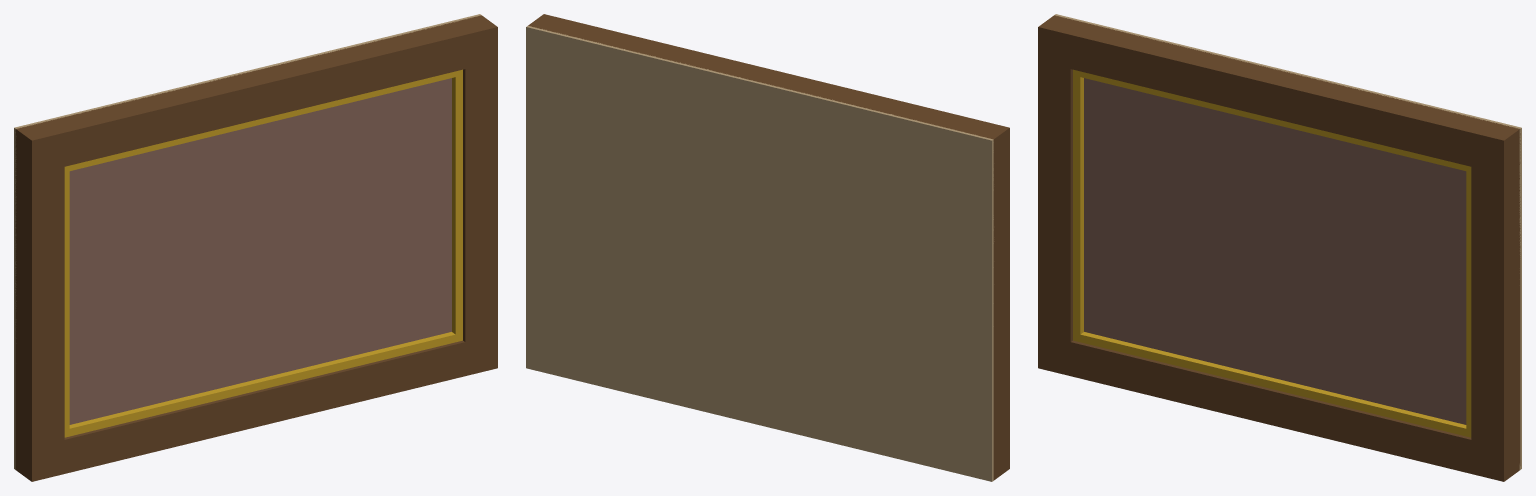
Rendered from FrameLandscape.fbx.
The picture shows the model from 3 angles, left to right: view 1: azimuth 30°, elevation 25°; view 2: azimuth 150°, elevation 25°; view 3: azimuth 330°, elevation 25°; orthographic projection.
Parts seen in each view (by area): view 1: FrameLandscape; view 2: FrameLandscape; view 3: FrameLandscape.
Part boxes in pixels (x1=…): FrameLandscape: x1=14, y1=14, x2=497, y2=481; FrameLandscape: x1=526, y1=14, x2=1009, y2=481; FrameLandscape: x1=1038, y1=14, x2=1521, y2=481.
Size of the model in its own units: 50 by 35 by 3.3.
